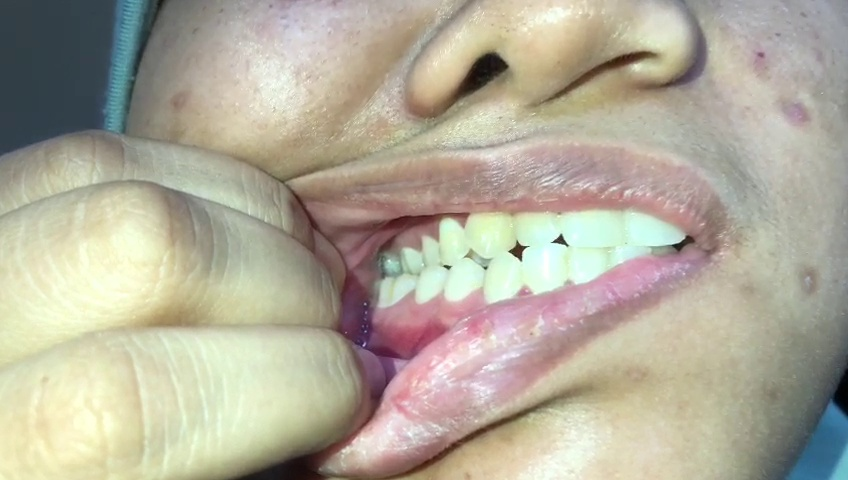1st Molar: (400, 245, 425, 277), (394, 274, 416, 310)
1st Premolar: (444, 258, 484, 307), (440, 217, 470, 265)
2nd Molar: (375, 274, 394, 313), (381, 251, 401, 278)
2nd Premolar: (416, 262, 447, 308), (418, 232, 441, 268)
Canine: (461, 208, 518, 259), (483, 252, 519, 306)
Lateral Incisor: (519, 245, 568, 299)
